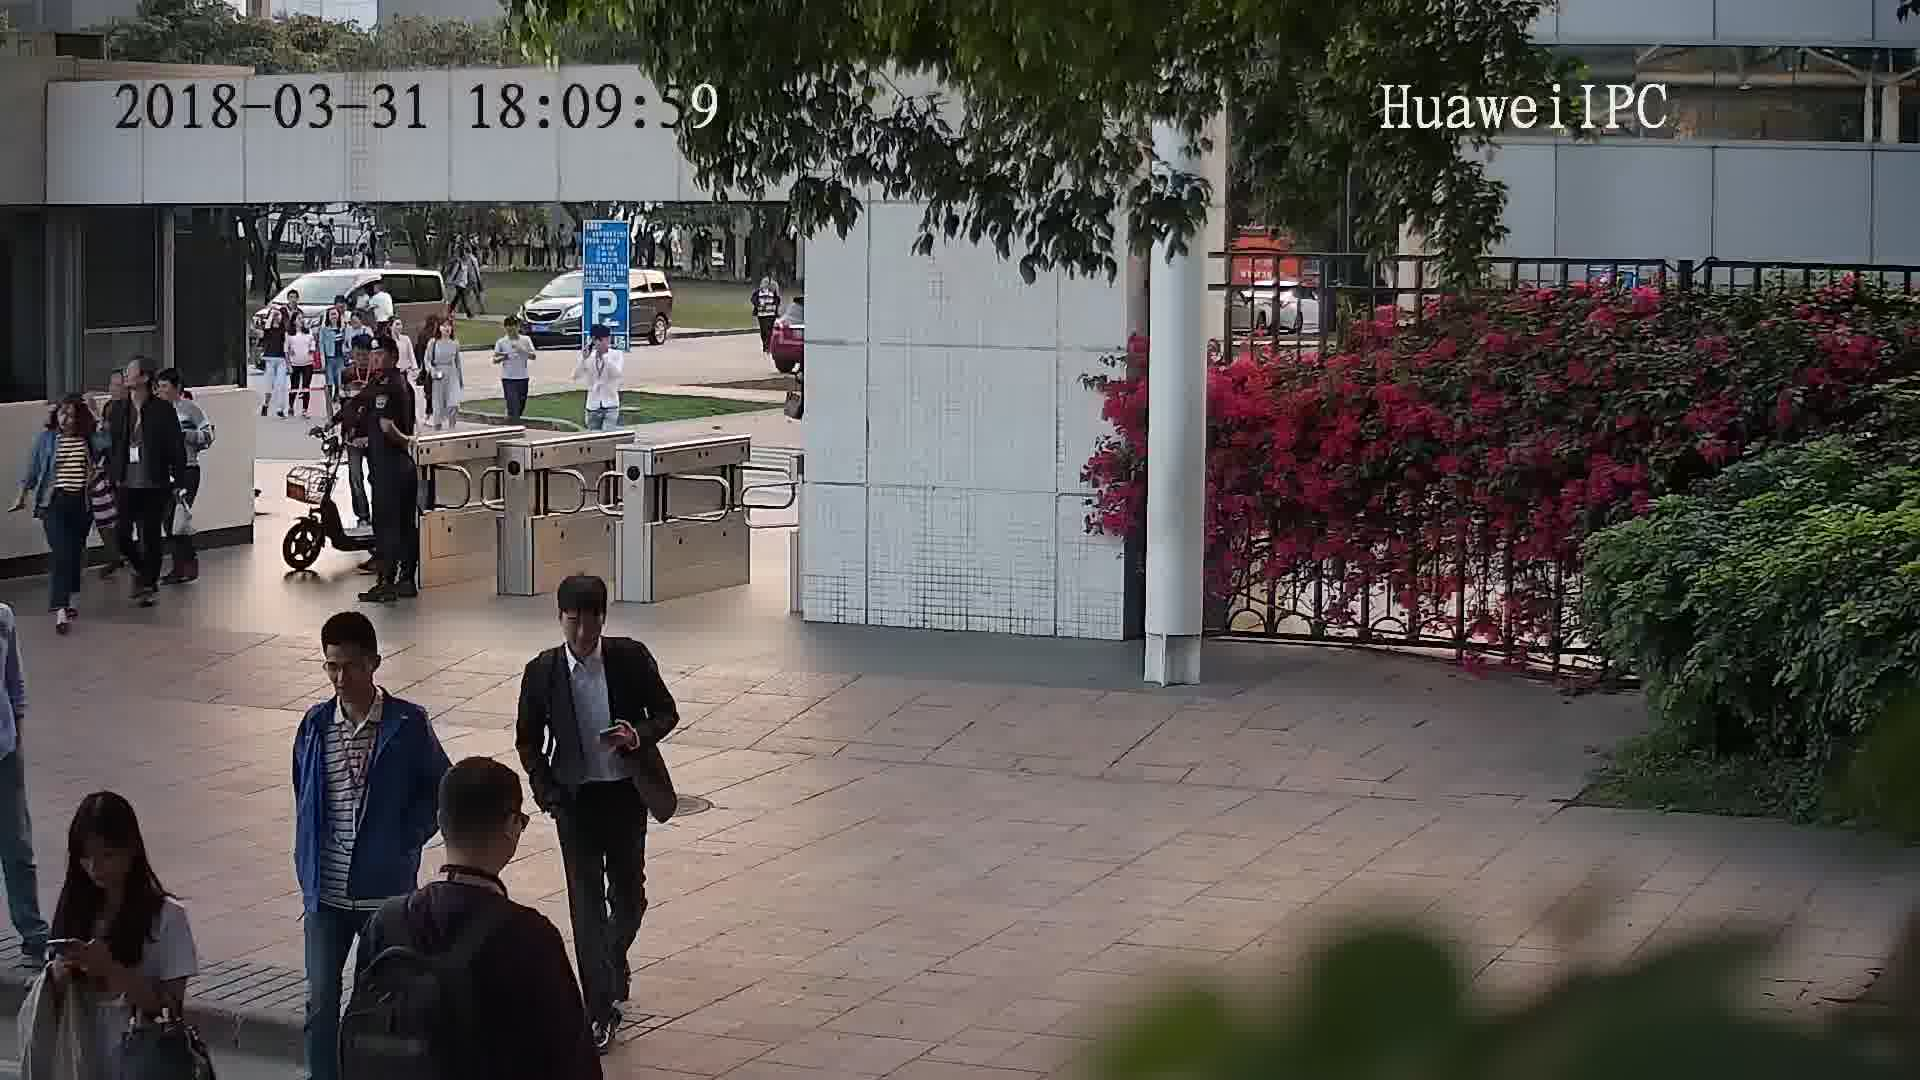face: (316, 640, 379, 703), (557, 599, 610, 652)
person: (375, 752, 557, 963), (50, 788, 187, 941), (295, 605, 431, 757), (524, 569, 653, 688), (152, 367, 214, 431), (36, 391, 100, 451), (129, 359, 179, 422), (366, 335, 410, 396), (582, 322, 622, 366), (386, 312, 419, 350), (428, 317, 461, 352), (497, 314, 531, 347), (284, 310, 315, 343), (316, 302, 346, 335), (262, 306, 287, 339), (285, 289, 307, 319), (752, 275, 778, 300)
